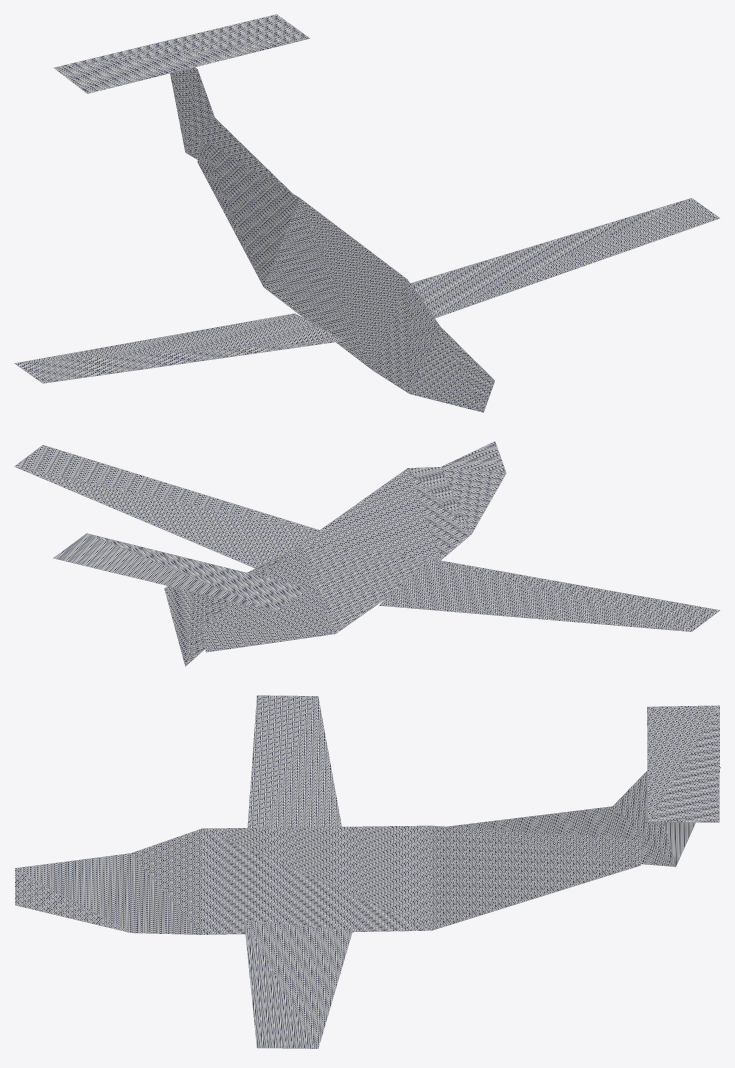
File: AIG_PC-12_BW4blade_MSFS_LOD1.gltf
3 views of the same model, one above another, from view 1: azimuth 30°, elevation 25°; view 2: azimuth 150°, elevation 25°; view 3: azimuth 270°, elevation 25° (orthographic). The views are drawn at different scales.
Visible parts, largest first — view 1: node1; view 2: node1; view 3: node1.
Part boxes in pixels (x1,y1,x2,y2): node1: [14, 14, 719, 412]; node1: [14, 441, 720, 666]; node1: [15, 695, 720, 1048].
Size of the model in its own units: 15.98 by 3.26 by 13.51.
